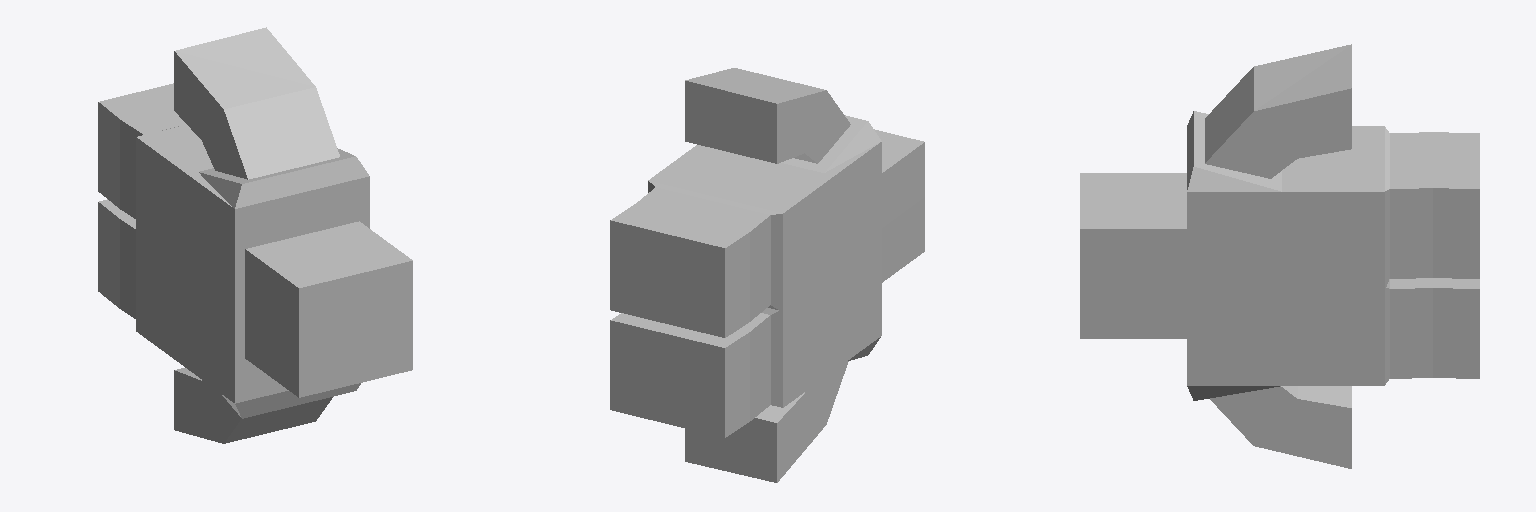
File: meeple.obj
The picture shows the model from 3 angles: view 1: azimuth 30°, elevation 25°; view 2: azimuth 150°, elevation 25°; view 3: azimuth 270°, elevation 25°; orthographic projection.
Visible parts, largest first — view 1: Box001; view 2: Box001; view 3: Box001.
Boxes of the visible parts, box(x1,y1,x2,y2) form: Box001: box(98, 27, 412, 443); Box001: box(610, 68, 924, 482); Box001: box(1080, 44, 1479, 468).
Bounding box in the file's own units: 14.87 × 40.09 × 38.16.